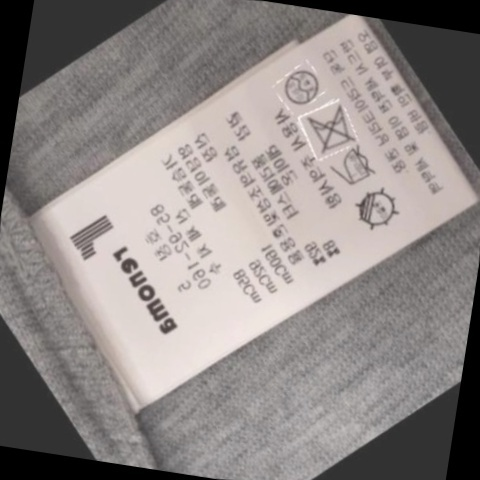DN_wash: (296, 100, 360, 158)
dry_clean_petrol_only: (275, 60, 326, 111)
iron_low: (326, 142, 383, 194)
line_dry_in_shade: (343, 182, 404, 236)
